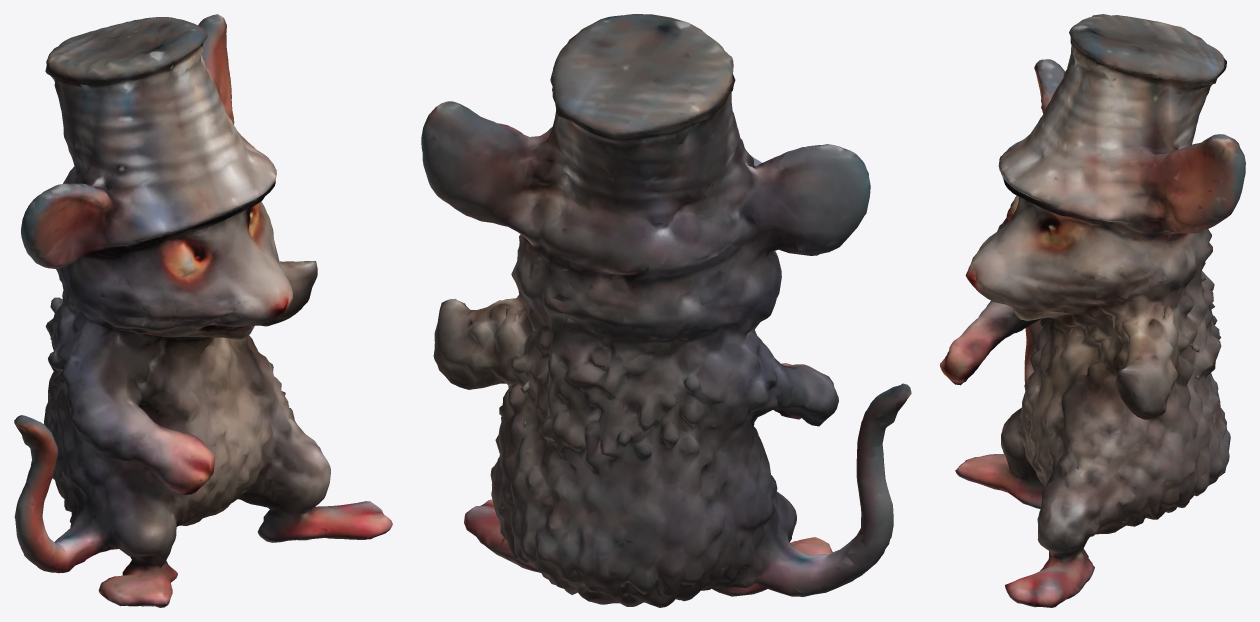
File: rat.glb
The picture shows the model from 3 angles, left to right: view 1: azimuth 30°, elevation 25°; view 2: azimuth 150°, elevation 25°; view 3: azimuth 270°, elevation 25°; orthographic projection. The views are drawn at different scales.
Visible parts, largest first — view 1: world; view 2: world; view 3: world.
Boxes of the visible parts, x1,y1,x2,y2 form: world: (14,14,392,607); world: (421,14,911,607); world: (940,14,1245,607).
Size of the model in its own units: 0.757 by 0.9856 by 0.5513.
Materials: 1 (1 with a texture image).
